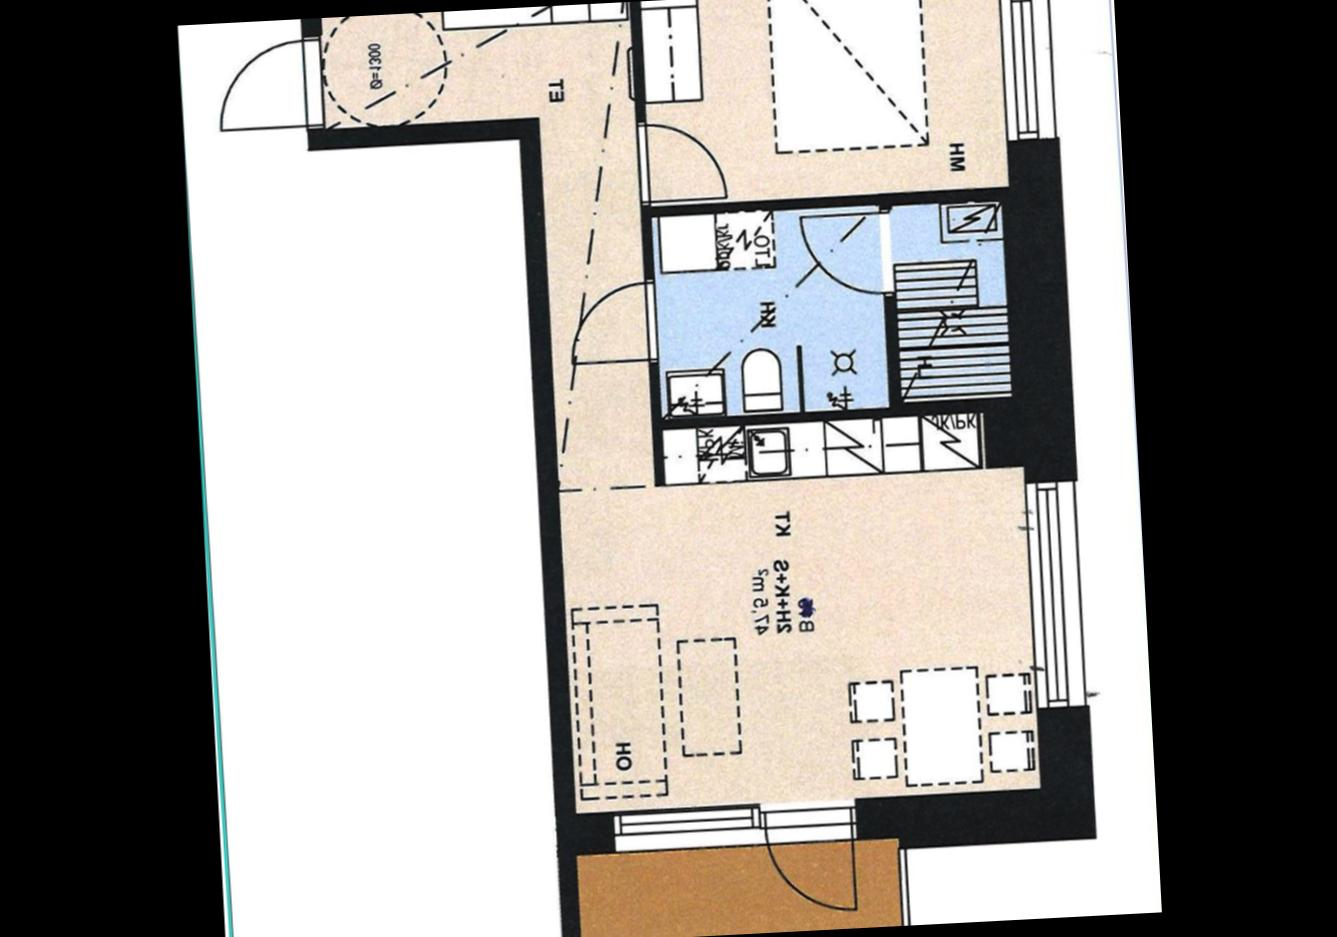door: (205, 28, 326, 136), (757, 800, 863, 920), (566, 274, 660, 369), (633, 116, 733, 204)
window: (1020, 468, 1092, 717), (992, 0, 1064, 149), (603, 796, 764, 863)
